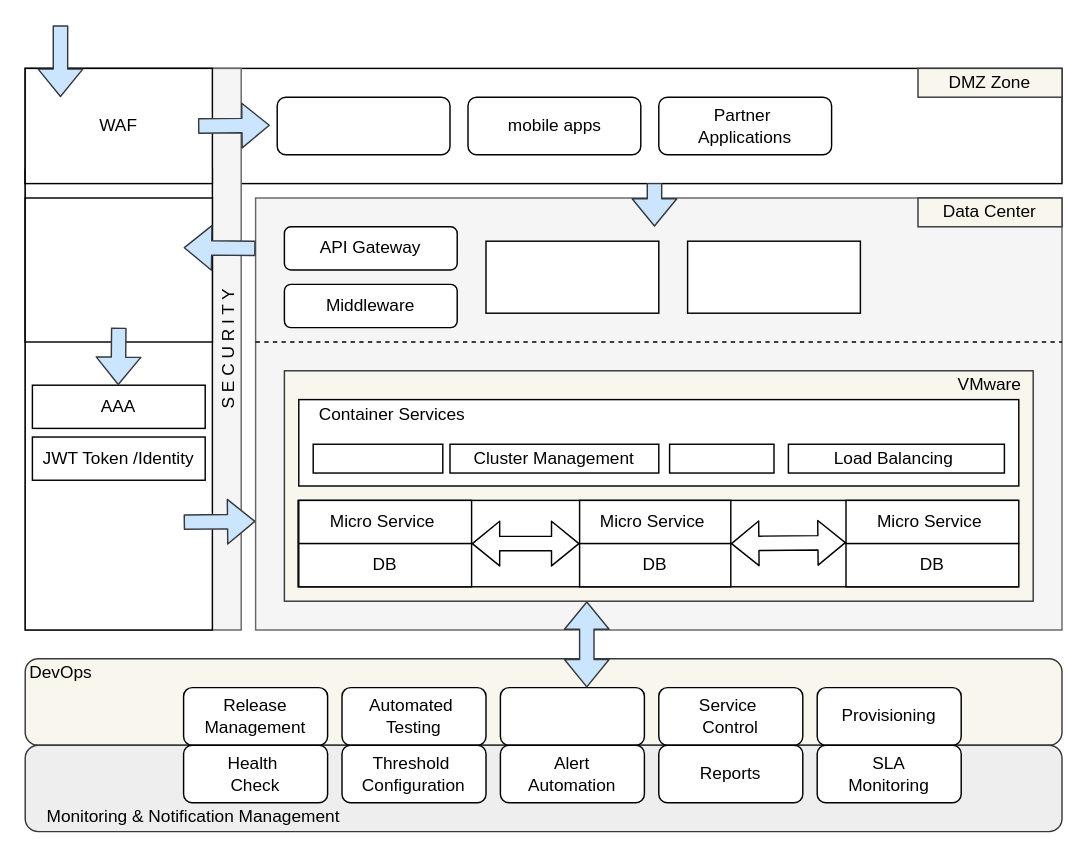
This 1089x857 diagram has some shape labels left out. Each missing label, with the centre of its shape:
"Automated Deployment" belongs at (x=571, y=715).
"Cache Server" belongs at (x=773, y=276).
"DMZ Firewall" belongs at (x=118, y=269).
"Load Balancer" belongs at (x=572, y=276).
"Orchestration" belongs at (x=377, y=458).
"Repository" belongs at (x=721, y=458).
"web application" belongs at (x=363, y=125).
